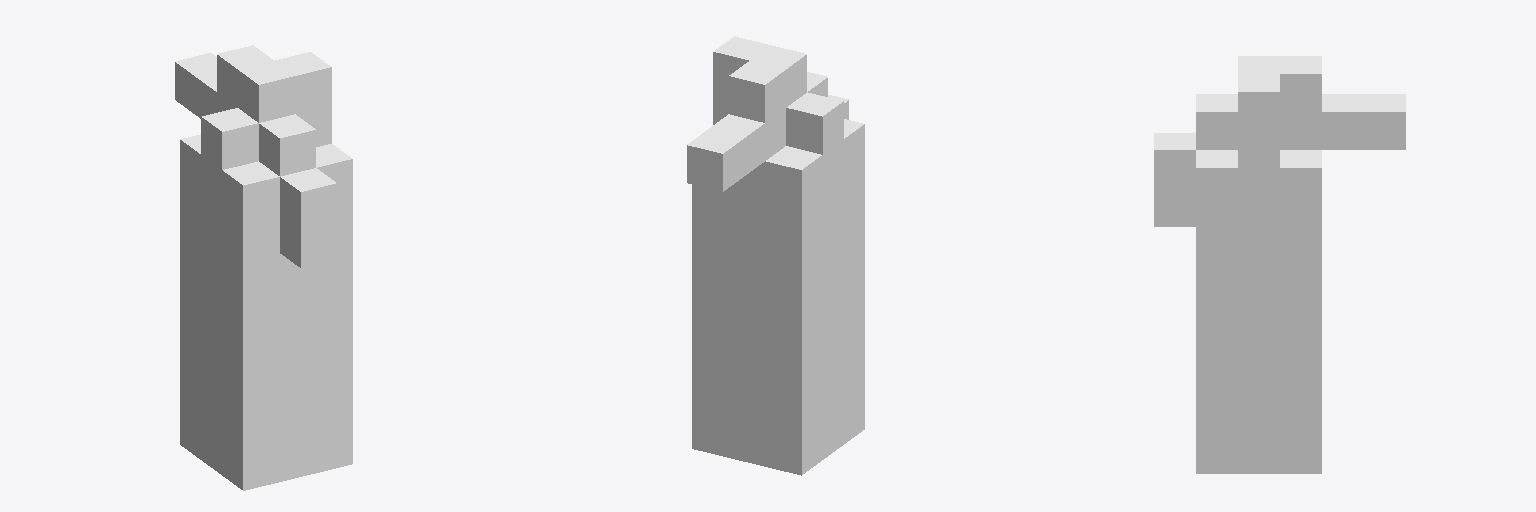
File: FireExtinguisher.obj
3 views of the same model, side by side, from view 1: azimuth 30°, elevation 25°; view 2: azimuth 150°, elevation 25°; view 3: azimuth 270°, elevation 25° (orthographic).
Visible parts, largest first — view 1: FireExtinguisher; view 2: FireExtinguisher; view 3: FireExtinguisher.
Part boxes in pixels (x1,y1,x2,y2): FireExtinguisher: (175,45,352,490); FireExtinguisher: (687,36,864,475); FireExtinguisher: (1154,56,1405,473).
Bounding box in the file's own units: 3 × 10 × 6.